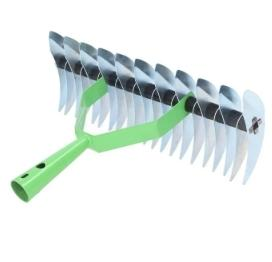RATEAU: (8, 11, 272, 240)
